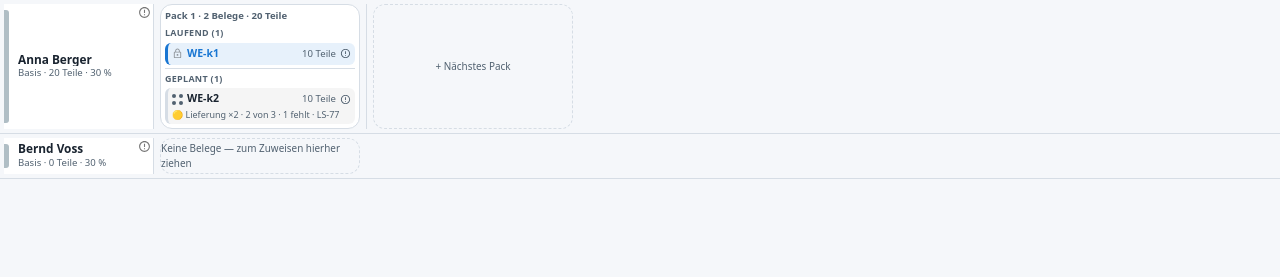
Test: MatrixBoard › Hover auf einen Beleg-Strich öffnet die Schnellinfo der Board-Karte
Hover over the text "WE-k1".
mouse_move(203, 54)  # box x1=187 y1=46 x2=219 y2=62
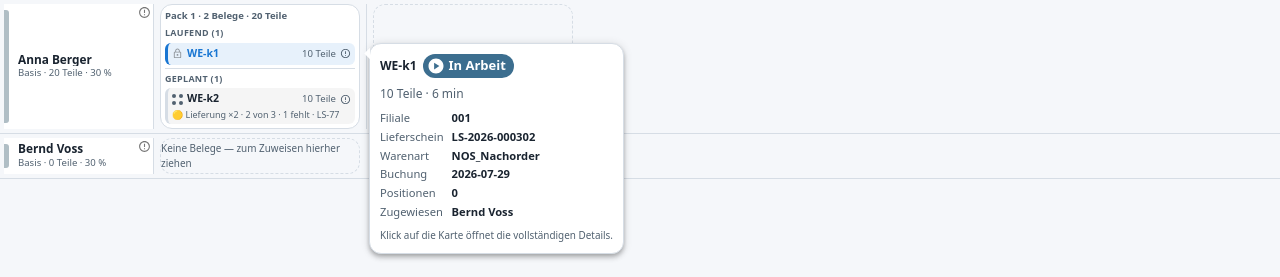
expect the text "Klick auf die Karte öffnet die vollständigen Details." is shown: met, box x1=380 y1=227 x2=613 y2=243
expect the text "Lieferschein" is shown: met, box x1=380 y1=129 x2=444 y2=146
expect the text "LS-2026-000302" is shown: met, box x1=452 y1=129 x2=535 y2=144
